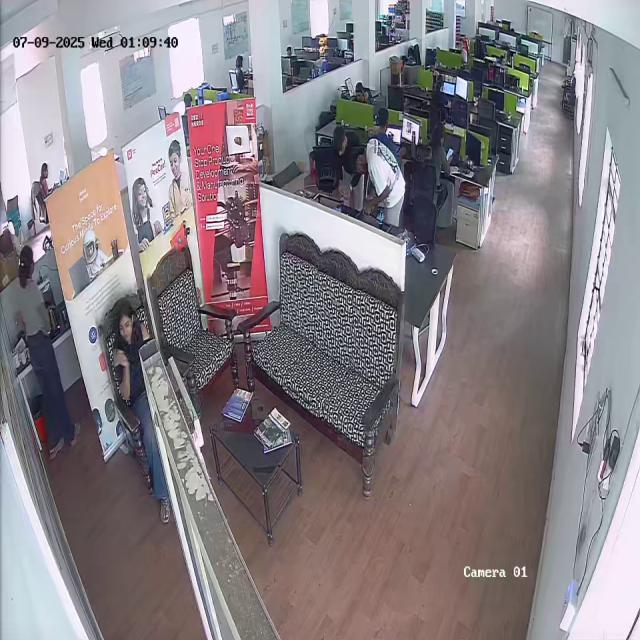person: (106, 302, 165, 512), (16, 243, 66, 451), (348, 138, 404, 228), (421, 123, 457, 228), (323, 126, 360, 210), (28, 162, 58, 220), (372, 105, 398, 152)
